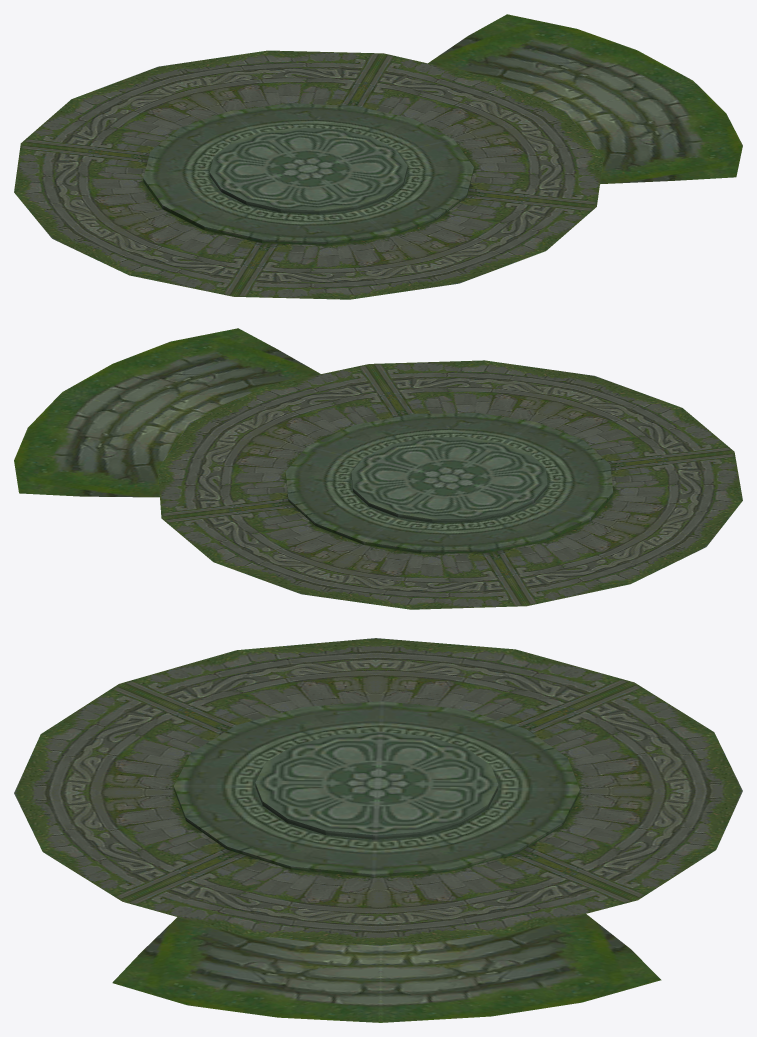
File: h5_jitai_a.FBX
The picture shows the model from 3 angles, top to bottom: view 1: azimuth 30°, elevation 25°; view 2: azimuth 150°, elevation 25°; view 3: azimuth 270°, elevation 25°; orthographic projection. The views are drawn at different scales.
Visible parts, largest first — view 1: h5_jitai_a; view 2: h5_jitai_a; view 3: h5_jitai_a.
Boxes of the visible parts, box(x1,y1,x2,y2) form: h5_jitai_a: box(14, 14, 742, 299); h5_jitai_a: box(14, 328, 742, 609); h5_jitai_a: box(14, 638, 742, 1022).
Size of the model in its own units: 15.29 by 0.2238 by 12.25.
